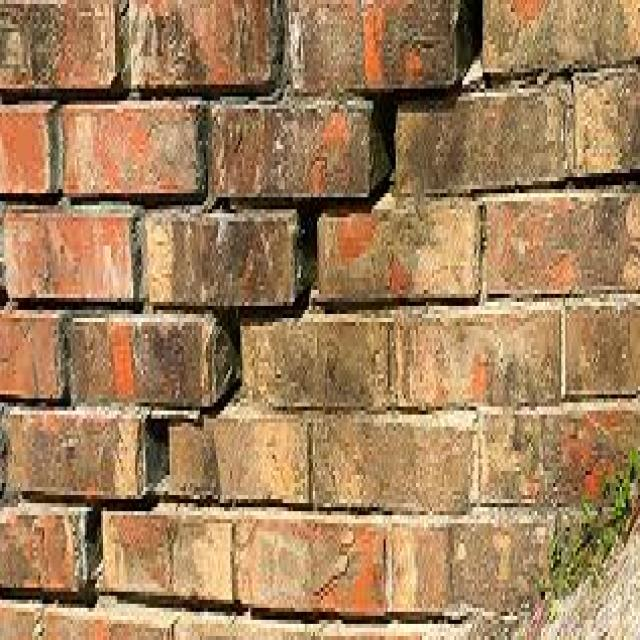Crack: (0, 0, 487, 608)
